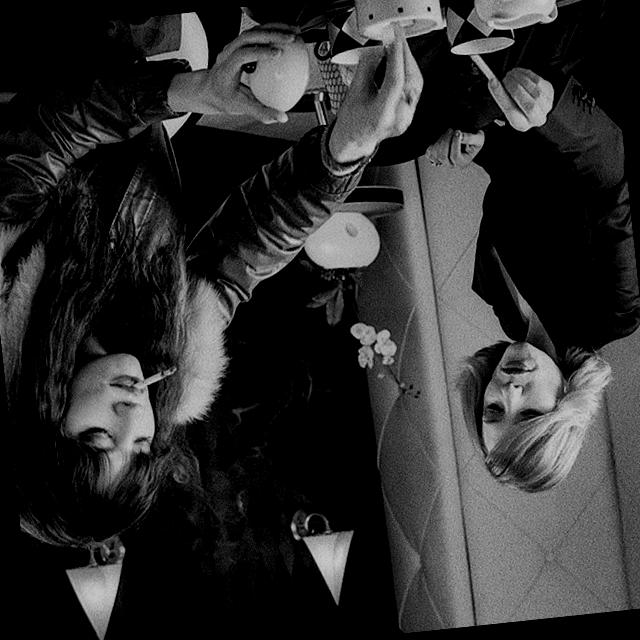cigarette: (136, 358, 180, 393)
